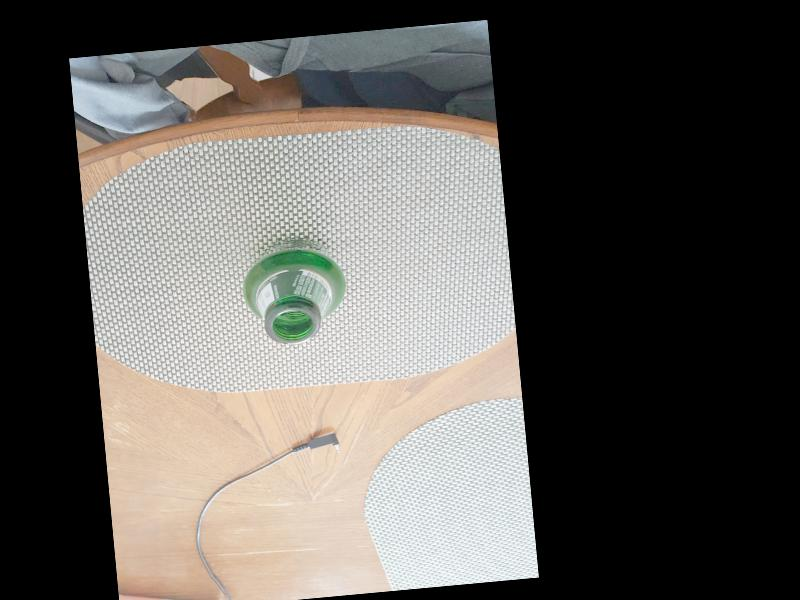Beer: (244, 235, 346, 346)
